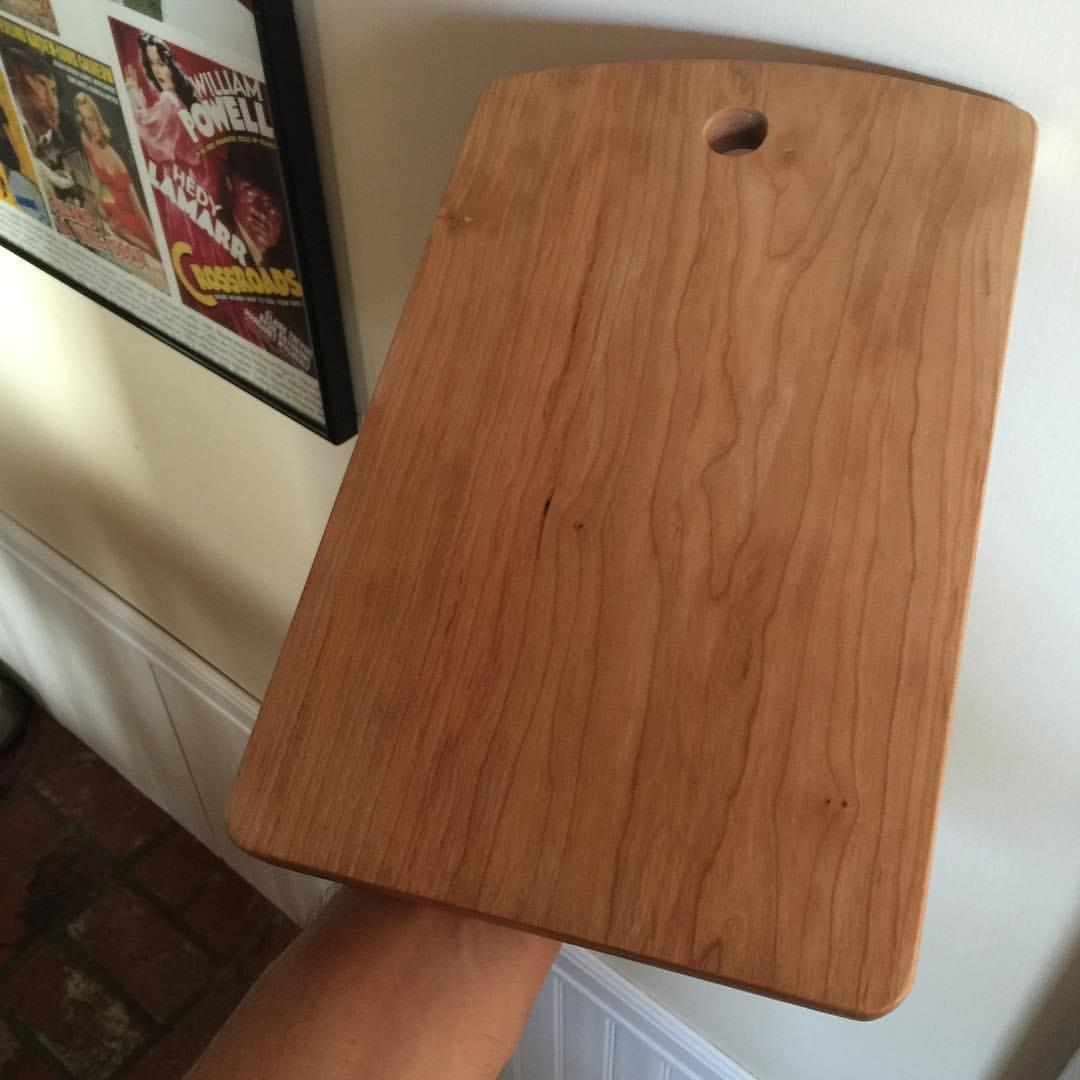gloved_hand: (215, 45, 1043, 1031)
